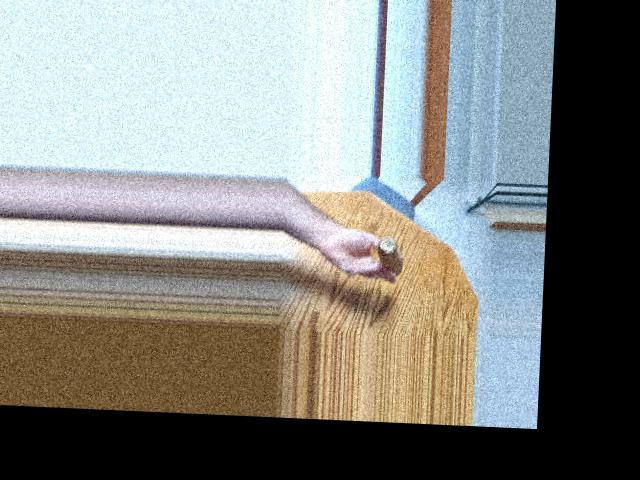sweet_potato: (369, 230, 405, 277)
